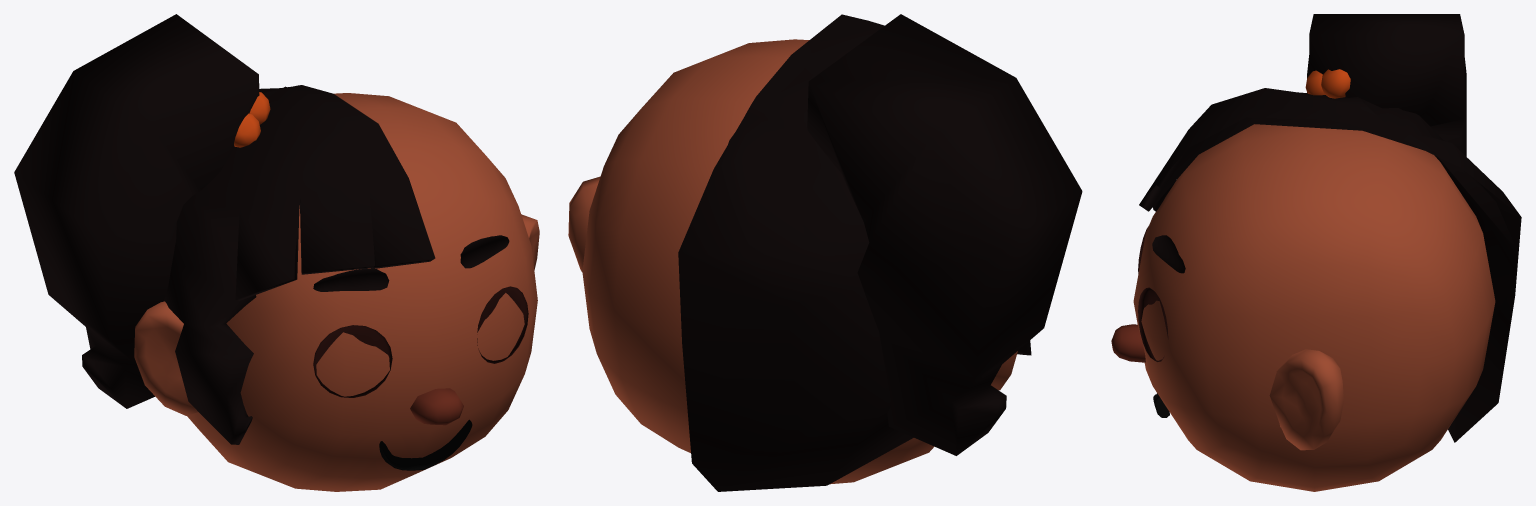
Rendered from Girl.dae.
3 views of the same model, side by side, from view 1: azimuth 30°, elevation 25°; view 2: azimuth 150°, elevation 25°; view 3: azimuth 270°, elevation 25° (orthographic). The views are drawn at different scales.
Parts seen in each view (by area): view 1: Hair, Head, nose, Eyes_APPLIED-R, EyeBrows_APPLIED-R, EyeBrows_APPLIED-L, Eyes_APPLIED-L, Mouth_APPLIED-L, Mouth_APPLIED-R; view 2: Hair, Head; view 3: Head, Hair, nose, EyeBrows_APPLIED-L, Eyes_APPLIED-L.
Boxes of the visible parts, left/top/right/bottom form: Hair: left=14, top=14, right=435, bottom=444; Head: left=134, top=93, right=539, bottom=491; nose: left=410, top=388, right=463, bottom=425; Eyes_APPLIED-R: left=313, top=325, right=392, bottom=397; EyeBrows_APPLIED-R: left=313, top=268, right=389, bottom=291; EyeBrows_APPLIED-L: left=460, top=235, right=509, bottom=268; Eyes_APPLIED-L: left=477, top=286, right=528, bottom=363; Mouth_APPLIED-L: left=423, top=419, right=472, bottom=469; Mouth_APPLIED-R: left=379, top=441, right=426, bottom=470; Hair: left=678, top=14, right=1082, bottom=491; Head: left=568, top=39, right=1017, bottom=484; Head: left=1133, top=124, right=1495, bottom=491; Hair: left=1139, top=14, right=1521, bottom=442; nose: left=1111, top=324, right=1145, bottom=362; EyeBrows_APPLIED-L: left=1152, top=235, right=1185, bottom=273; Eyes_APPLIED-L: left=1138, top=287, right=1168, bottom=361.
Size of the model in its own units: 0.9338 by 0.8389 by 0.7829.
